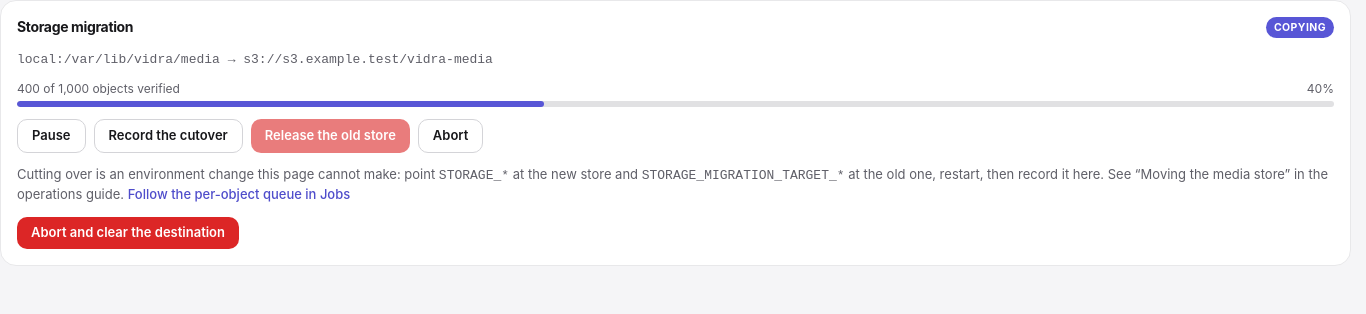
Test case: StorageMigrationControls › renders a typed refusal from core instead of swallowing it
The image size is (1366, 314).
Click the button "Pause" at [51, 136], box [17,119,86,153]
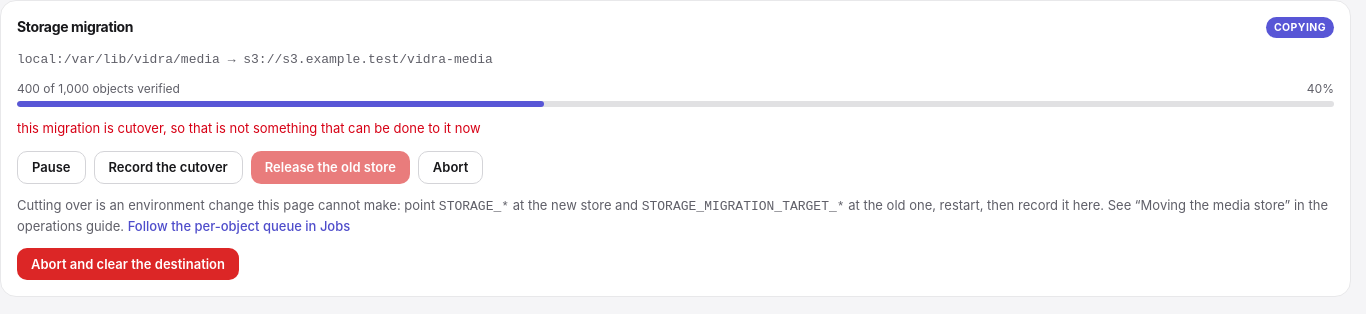
Expected: the text "this migration is cutover" is shown, [17,120,481,136]
